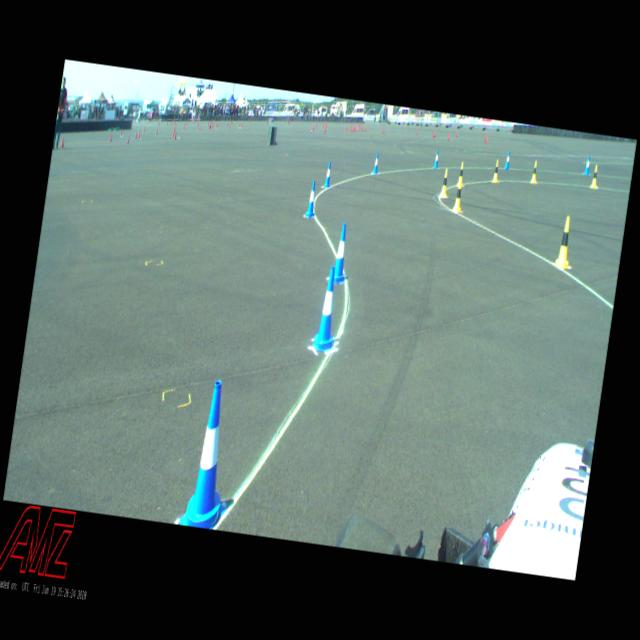blue_cone: (180, 377, 243, 531), (312, 264, 344, 352), (333, 223, 352, 284), (306, 180, 318, 218), (324, 160, 333, 188), (584, 156, 592, 176), (373, 153, 380, 174), (505, 151, 511, 169), (434, 150, 439, 168)
unknown_cone: (61, 138, 64, 148)
yellow_cone: (554, 216, 576, 270), (452, 178, 465, 212), (439, 169, 450, 198), (456, 162, 466, 188), (590, 164, 600, 188), (530, 160, 539, 183), (492, 160, 501, 182)
